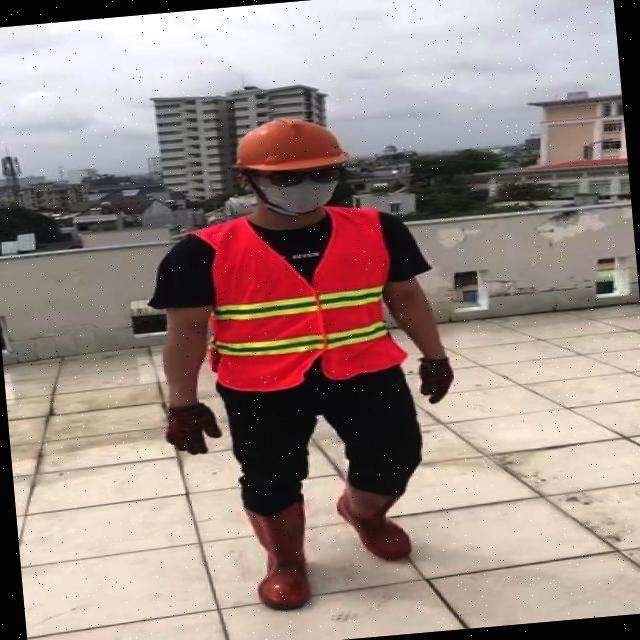boots: (243, 500, 314, 614), (332, 475, 418, 565)
helmet: (223, 109, 358, 176)
vest: (197, 205, 400, 390)
